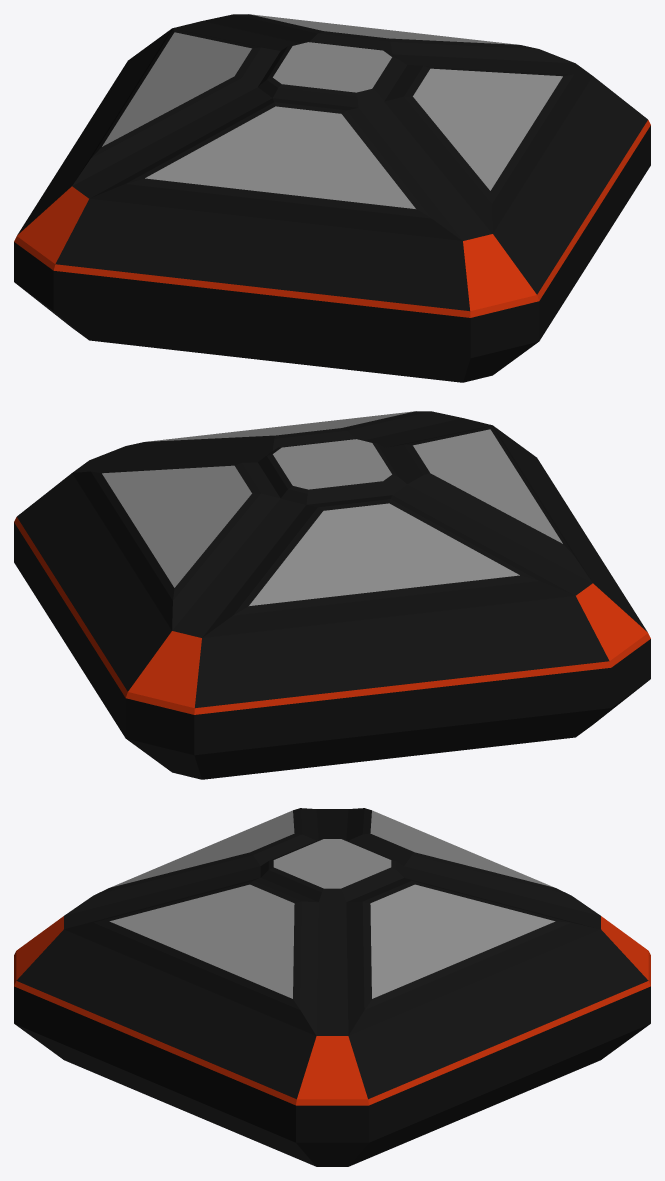
Rendered from ship.obj.
3 renders of one model, top to bottom at view 1: azimuth 30°, elevation 25°; view 2: azimuth 150°, elevation 25°; view 3: azimuth 270°, elevation 25°, orthographic. The views are drawn at different scales.
Visible parts, largest first — view 1: Ship; view 2: Ship; view 3: Ship.
Boxes of the visible parts, <box> form: Ship: <box>14,14,650,382</box>; Ship: <box>14,411,650,779</box>; Ship: <box>14,808,650,1166</box>.
Bounding box in the file's own units: 2 × 0.6571 × 2.
